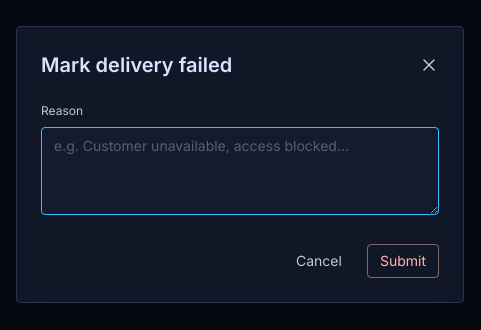
Scenario: FailReasonModal › blocks submit and shows the required-reason error when empty
Click the button "Submit" at {"x": 403, "y": 260}, box [367,244,439,278]
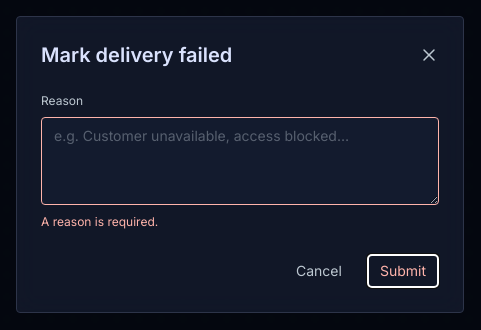
Expected: the text "A reason is required." is shown, [41,214,158,228]
